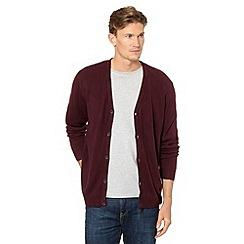S_cardigan sweater: (59, 55, 183, 208)
